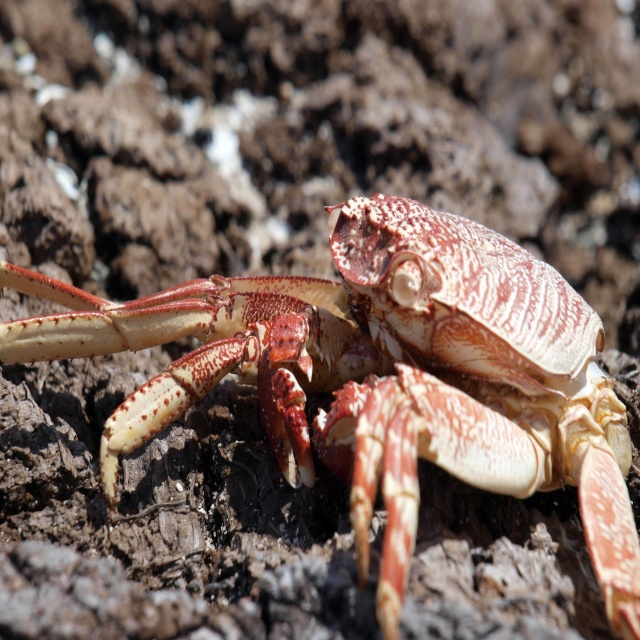Crab: (0, 192, 640, 640)
